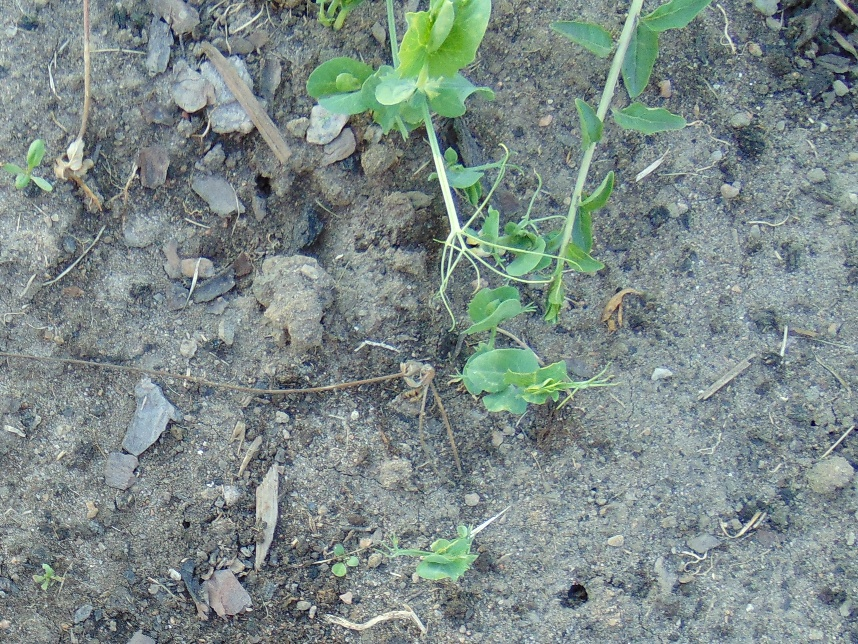crop: (304, 1, 523, 285), (441, 279, 624, 416), (378, 140, 561, 277), (370, 528, 479, 580)
weed: (549, 1, 716, 95), (569, 92, 694, 150), (540, 208, 602, 322), (559, 170, 615, 275), (2, 138, 58, 194), (332, 544, 359, 577)
